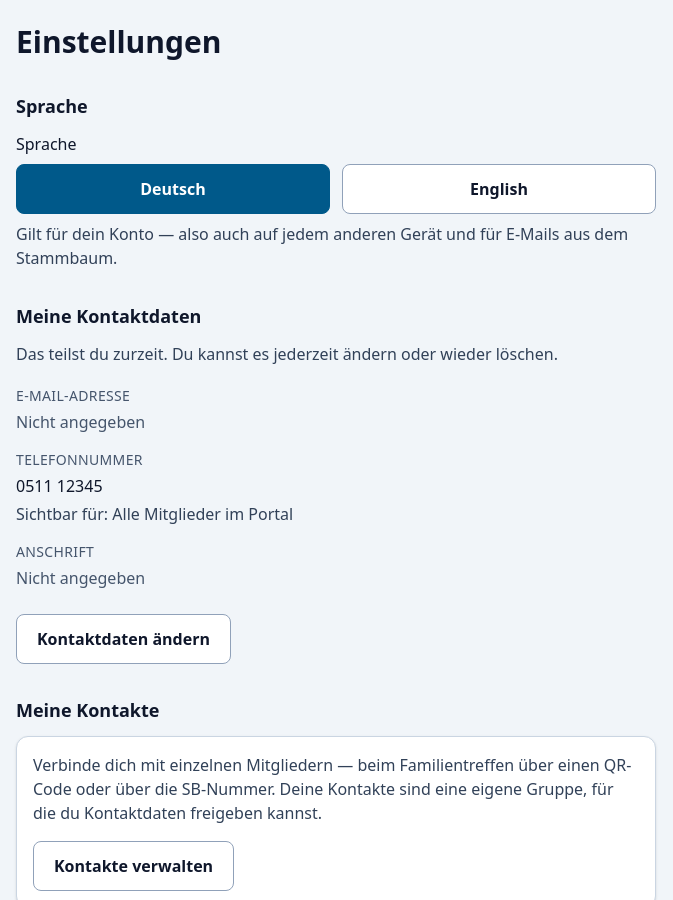
Test: my own contact details › drops the contacts audience when the family switched connections off
The width and height of the screenshot is (673, 900).
Click the button "Kontaktdaten ändern": (123, 639) [16,614,231,664]
(page scrolled)
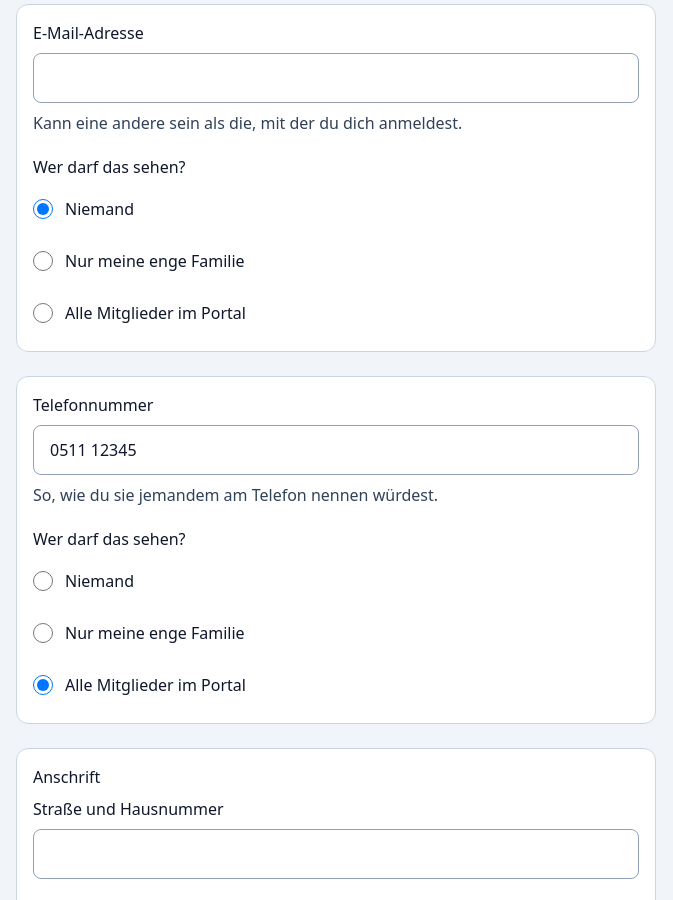
Expected: the field labelled "Telefonnummer" is shown, [33,425,639,475]
Expected: the number of radio buttons labelled "Nur meine enge Familie" is 3
